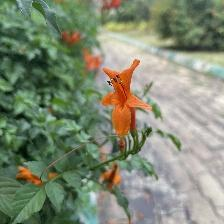honeysuckle: (97, 61, 154, 144)
